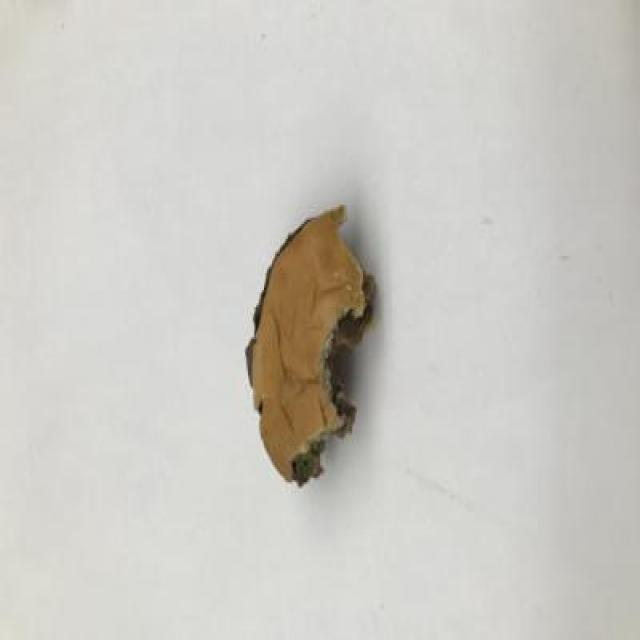compost: (226, 177, 392, 517)
